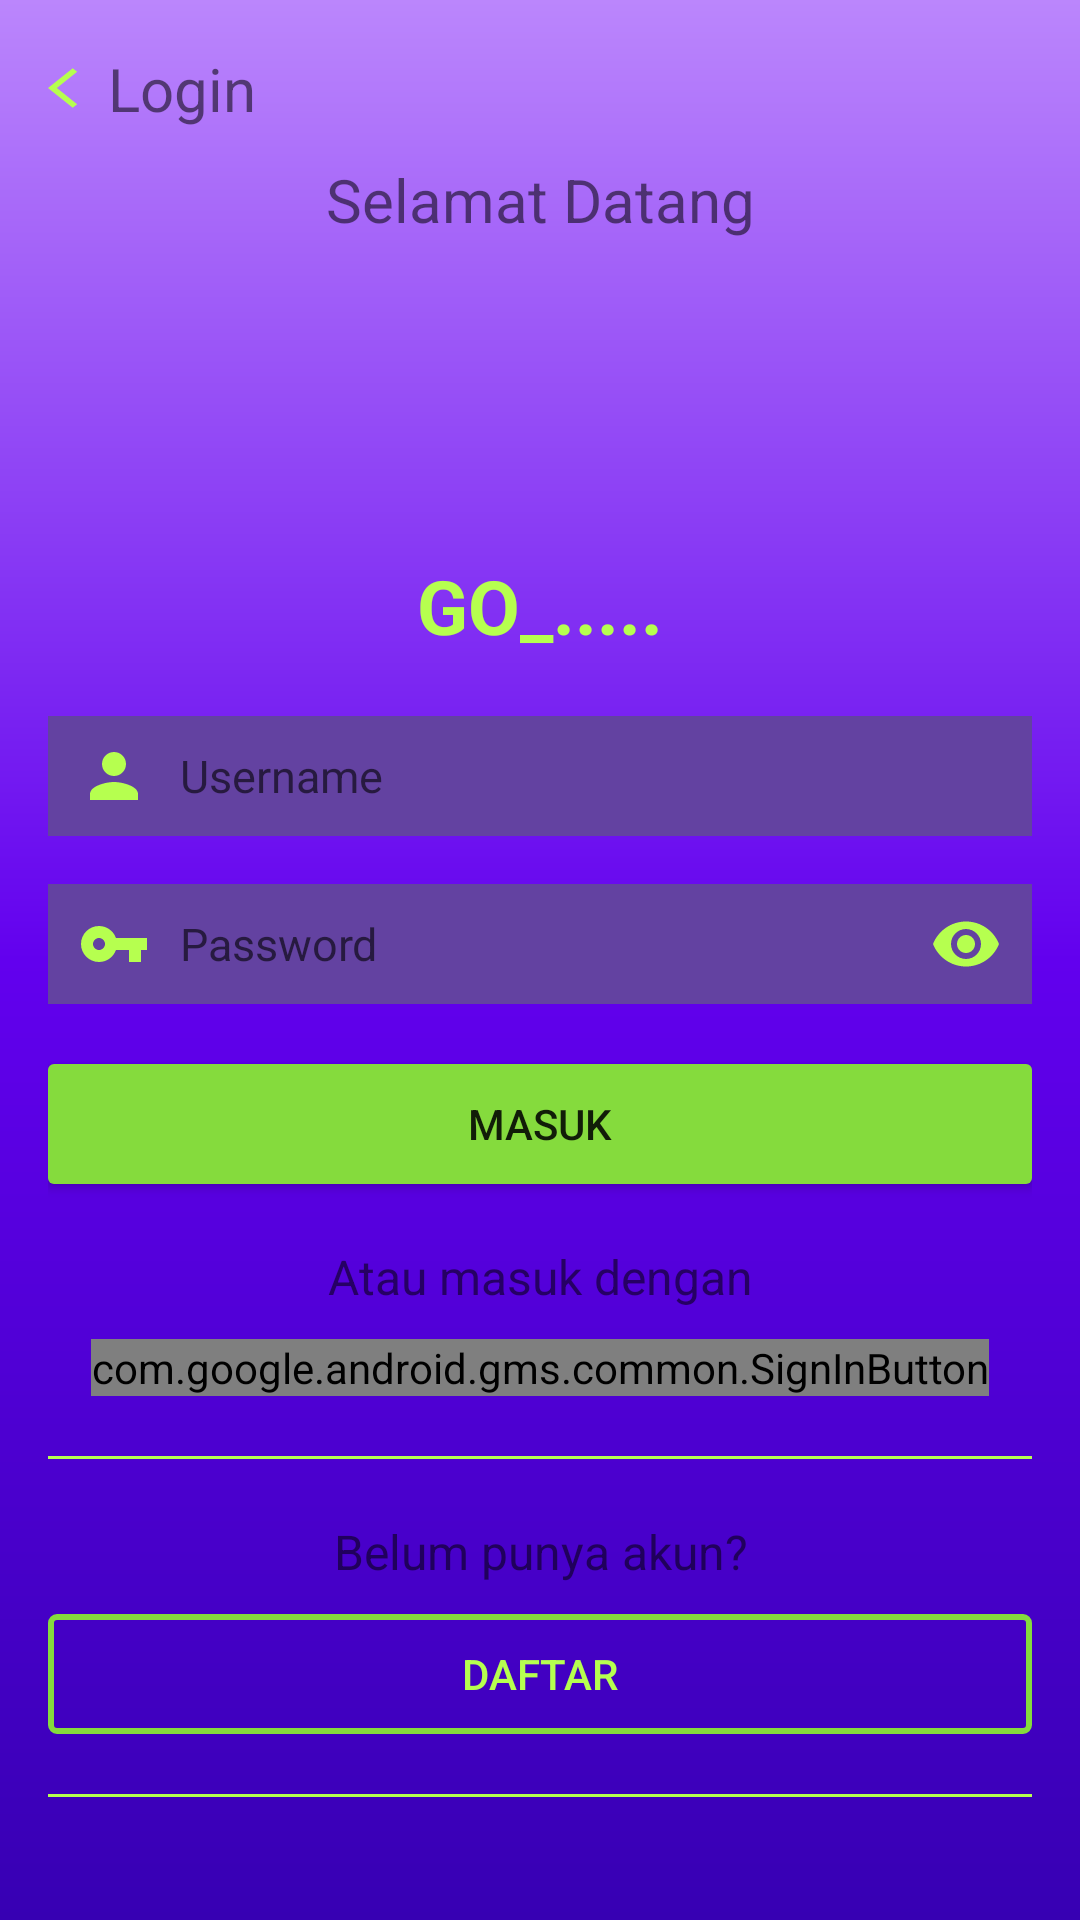

Locate icon controls on the screen. Image size 1080×1920, boxes as [x1=x1, y1=y1, x2=x2, y2=y2].
arrow back: [x1=48, y1=68, x2=77, y2=108]
